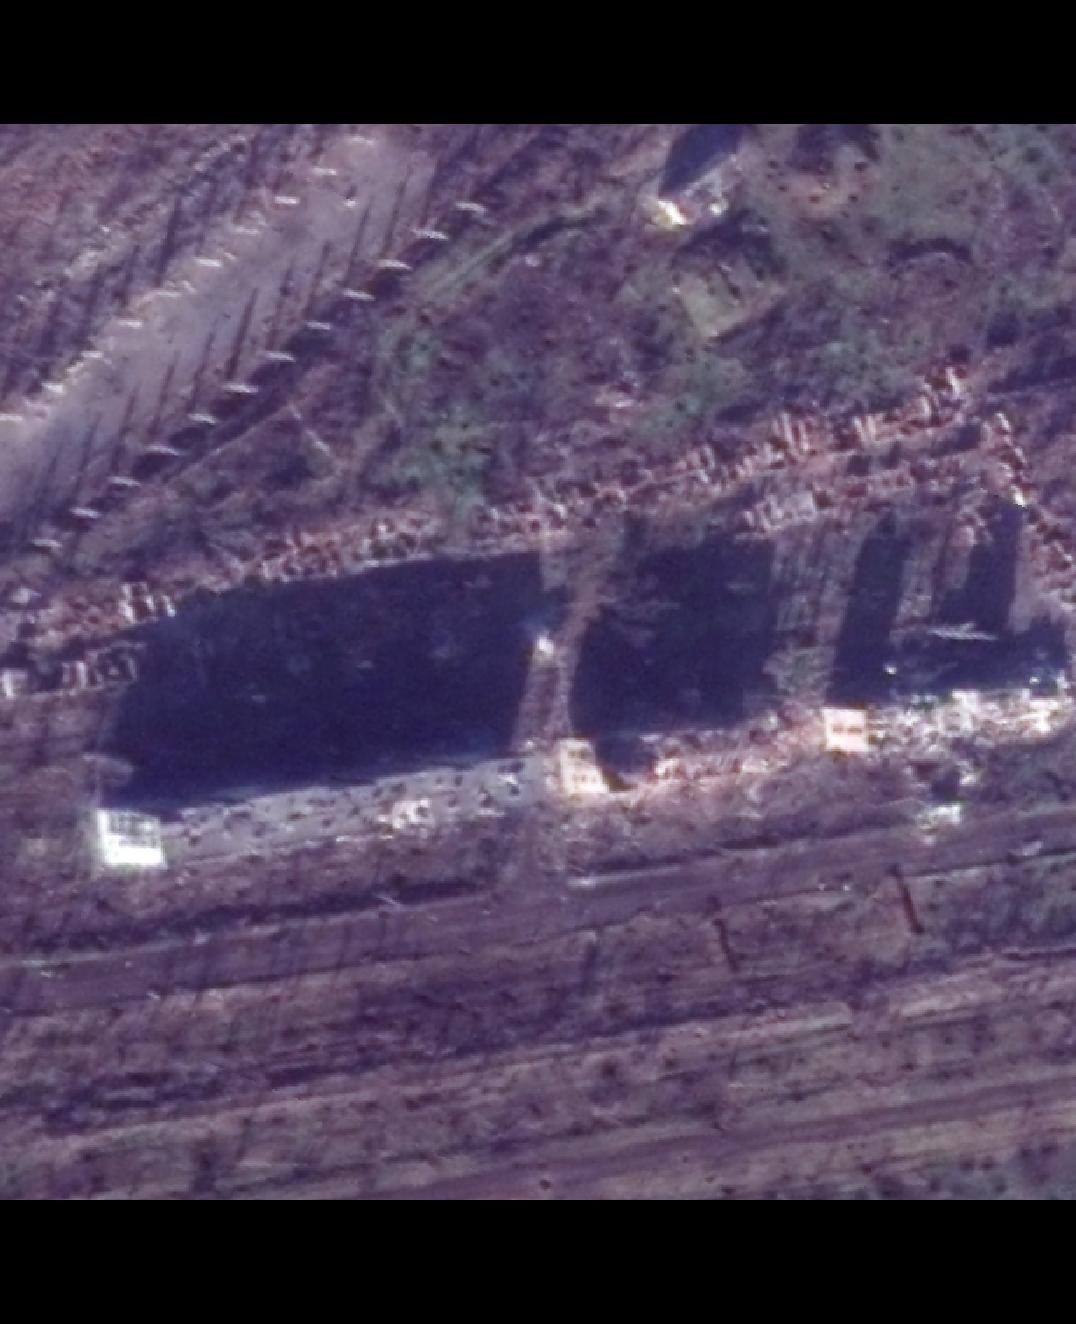demaged-building-high: (86, 719, 546, 869), (812, 636, 1076, 783), (543, 681, 793, 816), (259, 681, 261, 683)
